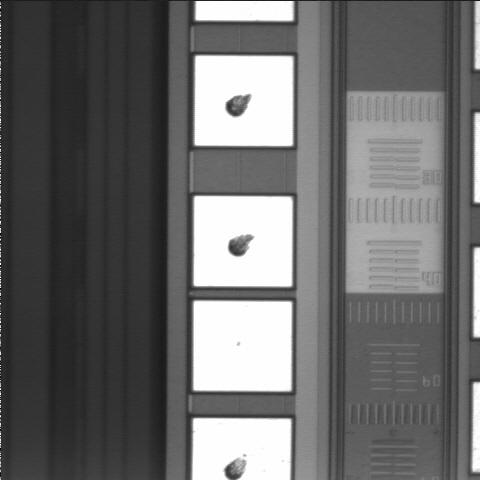pad: (194, 196, 292, 287), (193, 301, 292, 391), (195, 56, 293, 146)
